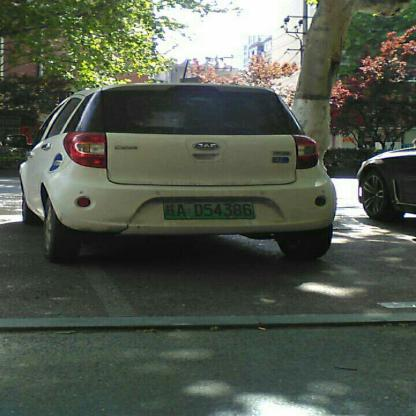lp: (163, 200, 254, 220)
